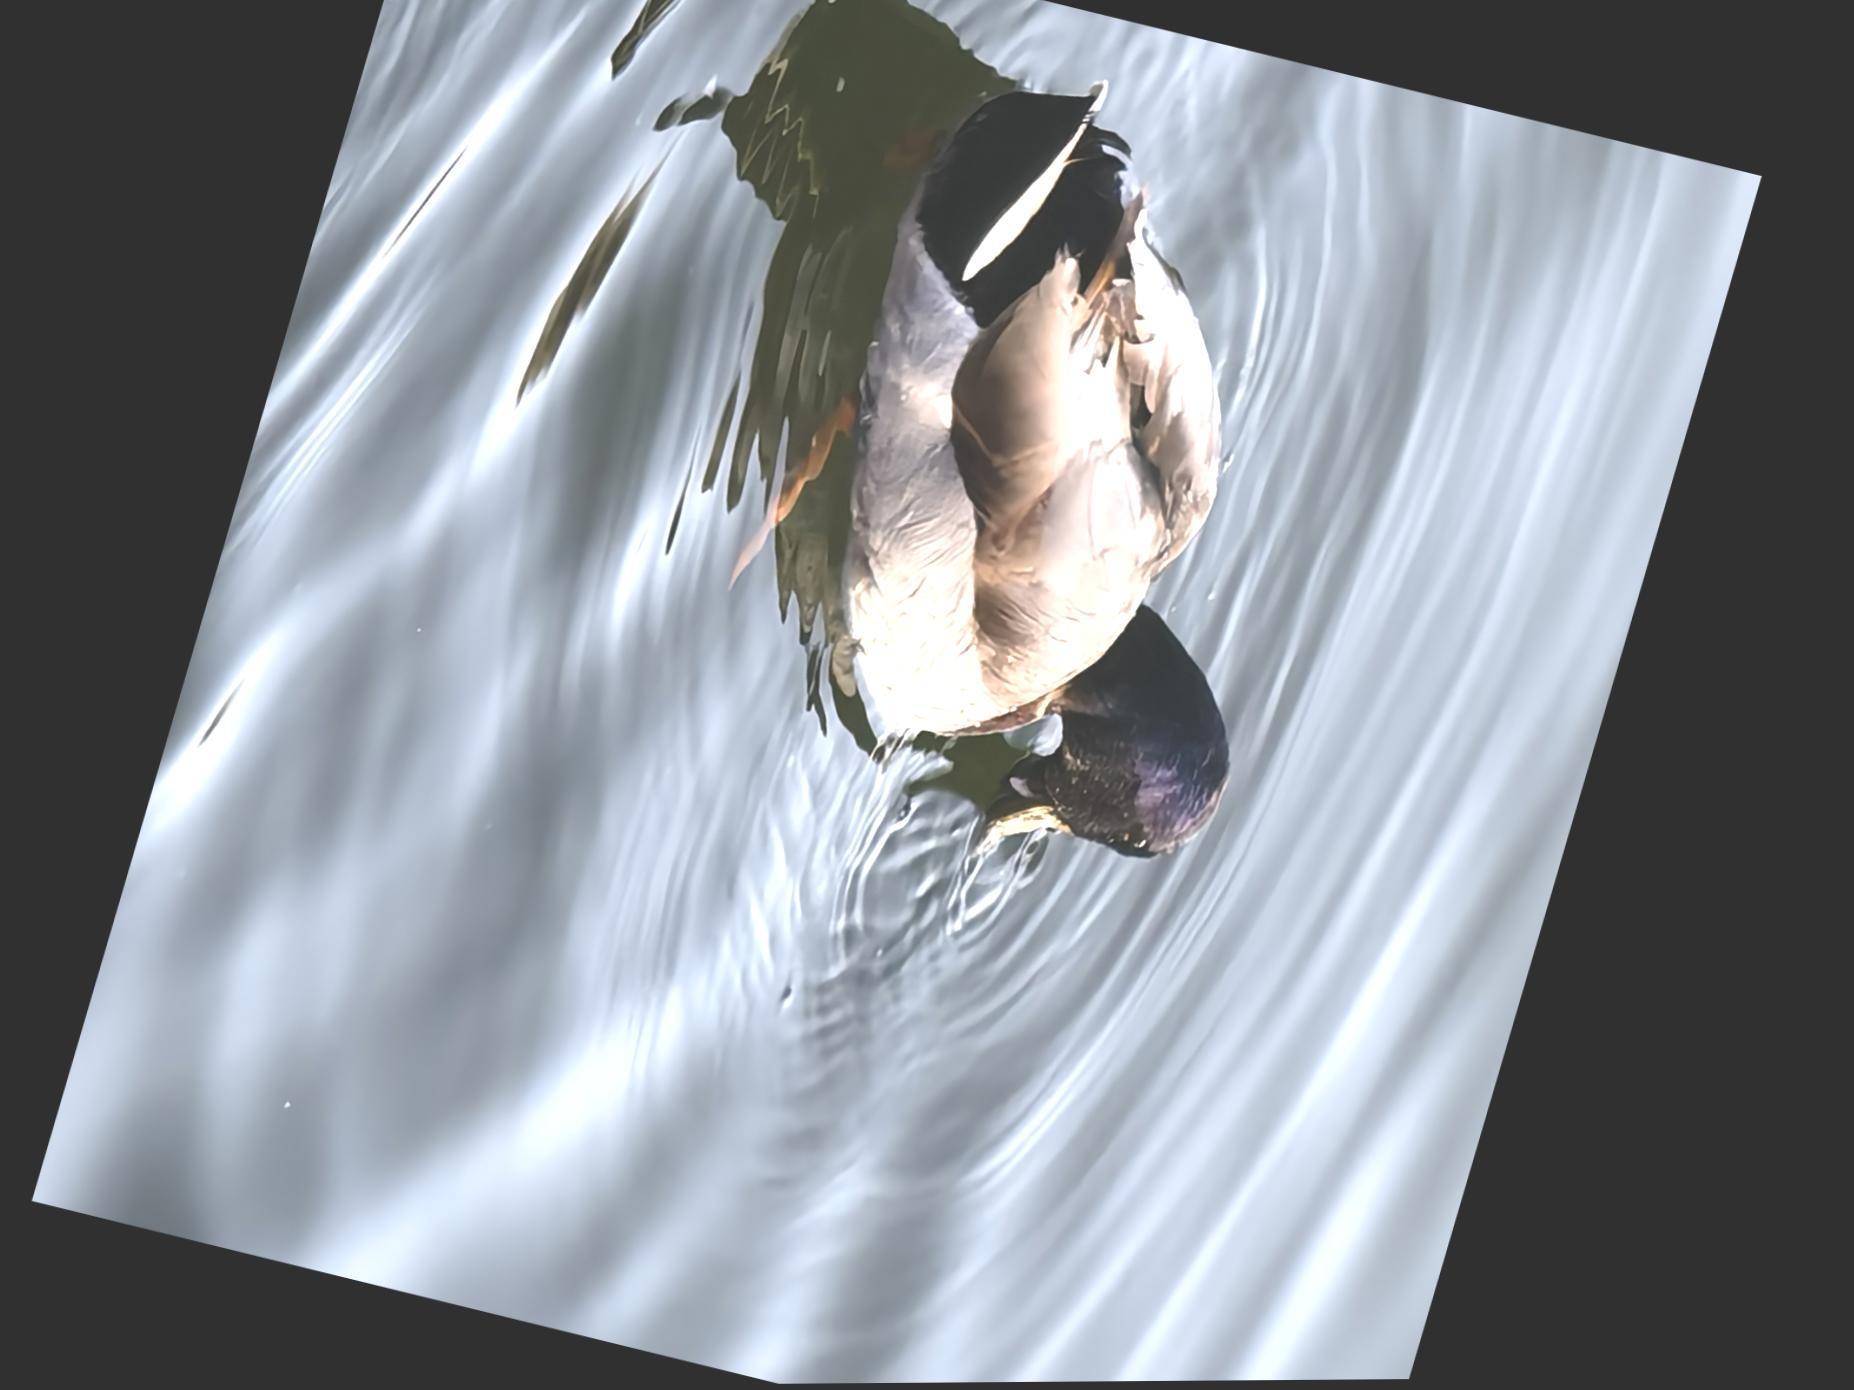duck: (661, 16, 1443, 931)
